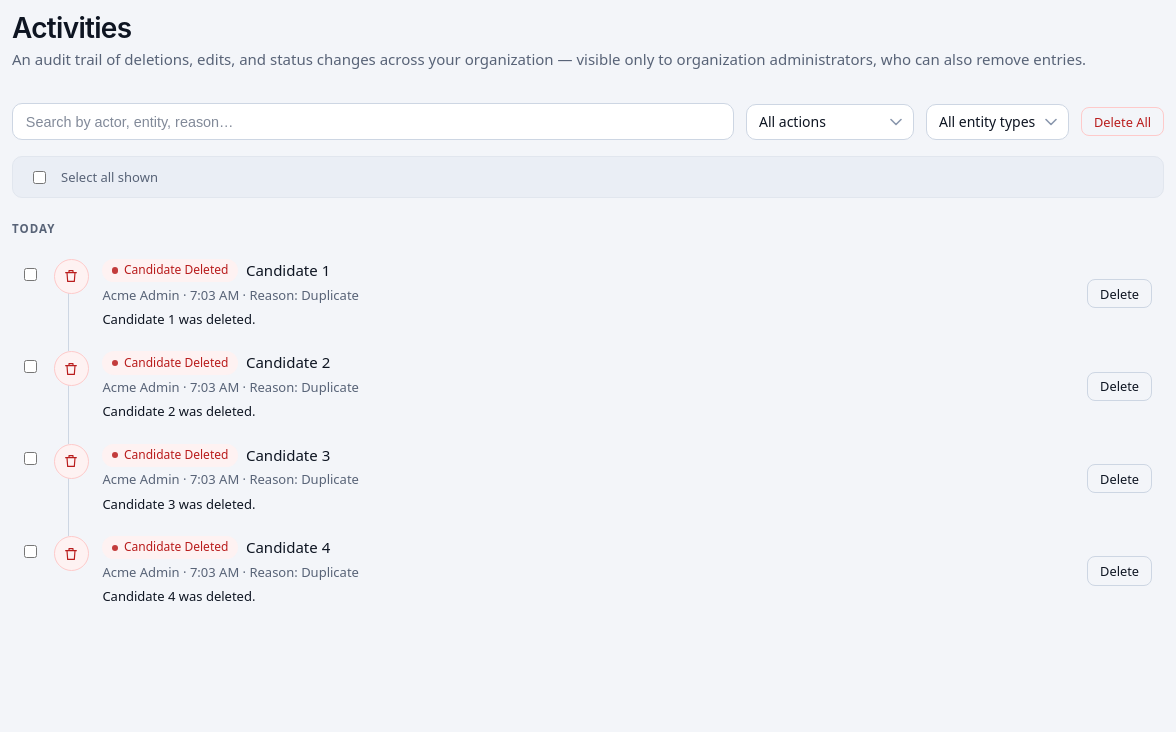
Test: ActivitiesPage selection and bulk delete › shows no bulk toolbar until something is selected, then a live count
Expected: the text "Candidate 1" is shown, x1=246 y1=259 x2=330 y2=282
Click the checkbox named "Select activity 1: Candidate 1". click: click(30, 274)
box: x1=24 y1=268 x2=37 y2=280
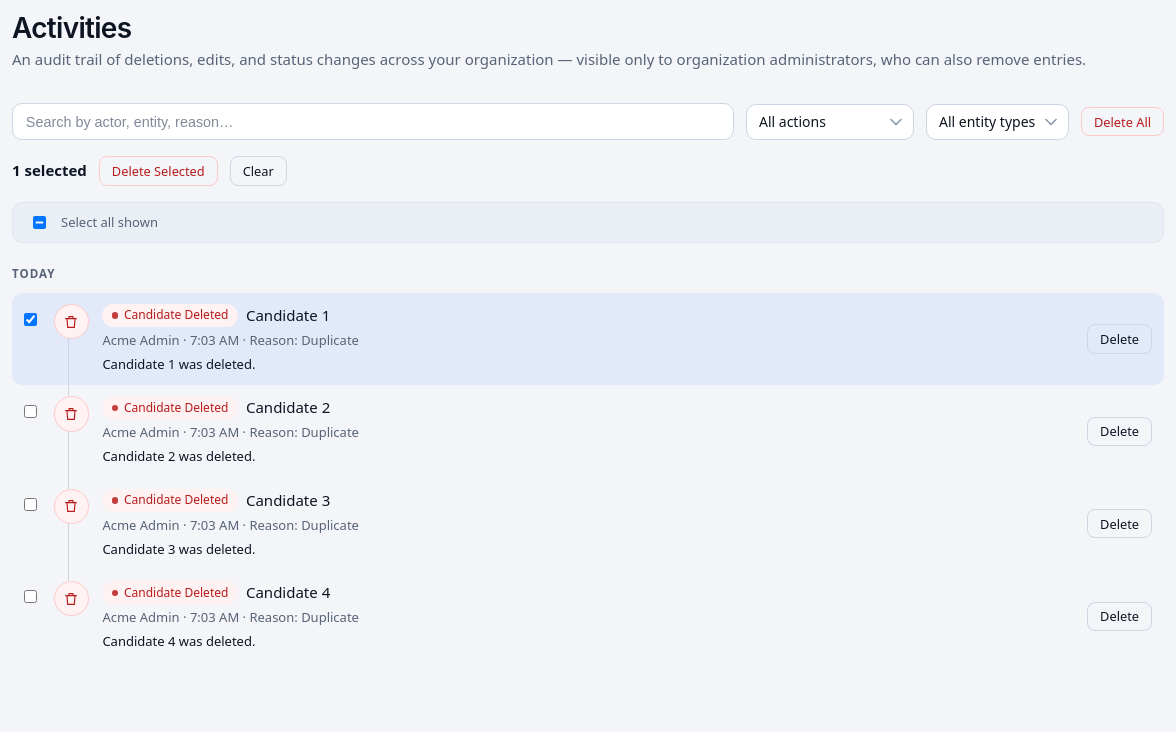
Now the text "1 selected" is shown, box x1=12 y1=159 x2=87 y2=183
Click the checkbox named "Select activity 2: Candidate 2". click: click(30, 412)
box: x1=24 y1=405 x2=37 y2=418
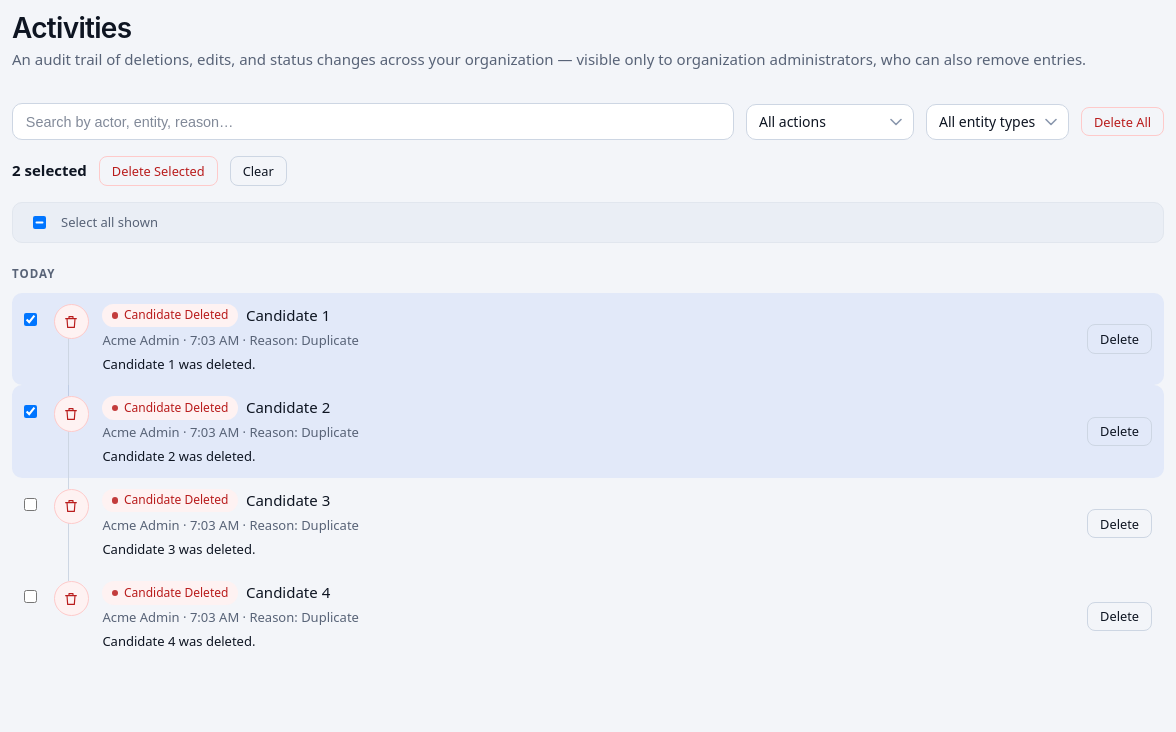
Click the checkbox named "Select activity 4: Candidate 4". click: click(30, 596)
box: x1=24 y1=590 x2=37 y2=603
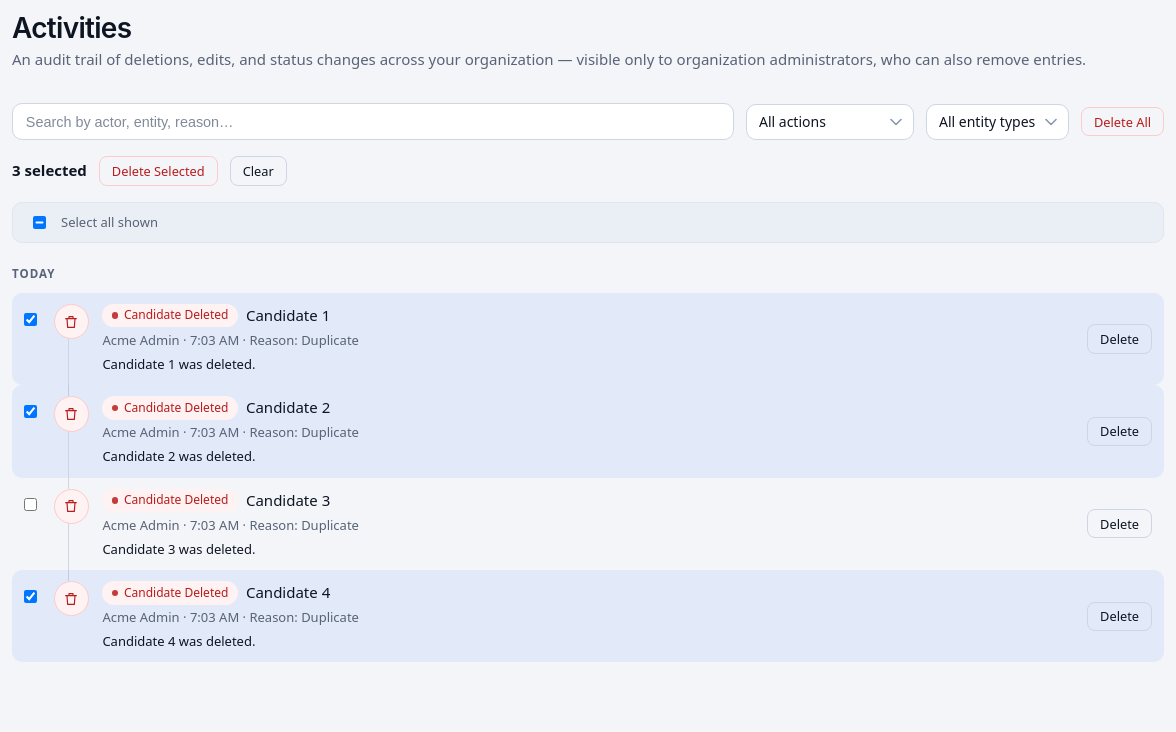
Now the text "3 selected" is shown, box x1=12 y1=159 x2=87 y2=183
Click the checkbox named "Select activity 2: Candidate 2". click: click(30, 412)
box: x1=24 y1=405 x2=37 y2=418
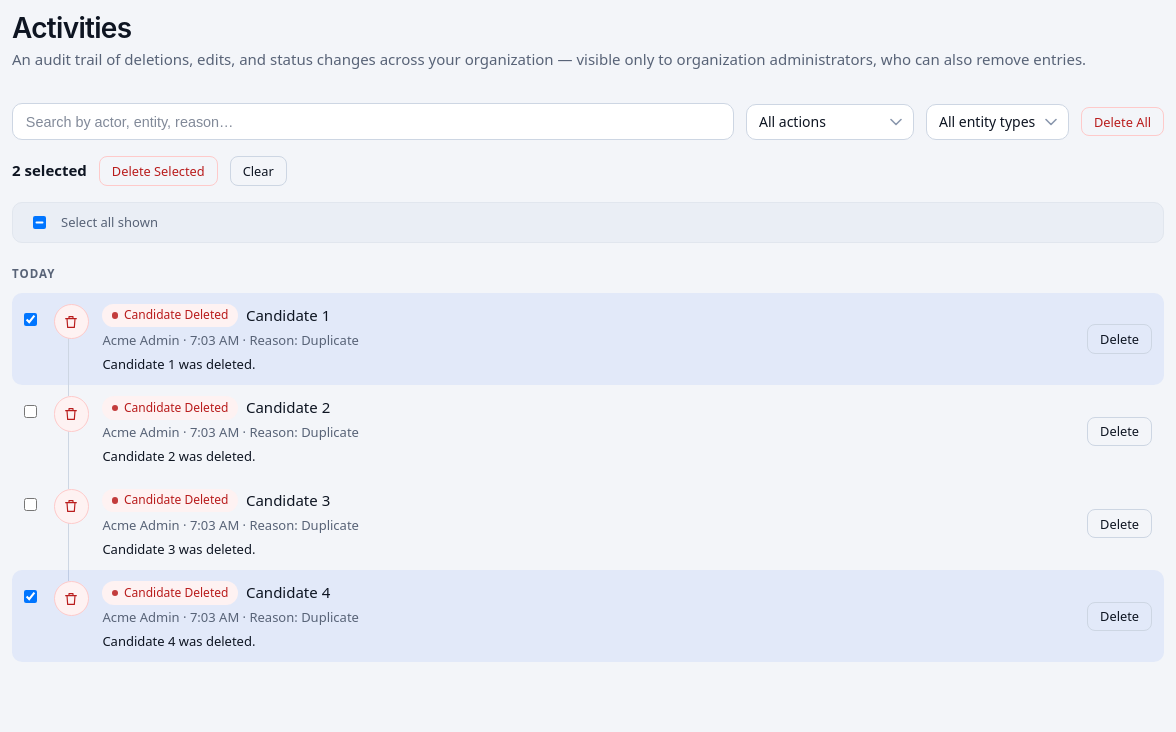
Now the text "2 selected" is shown, box x1=12 y1=159 x2=87 y2=183
